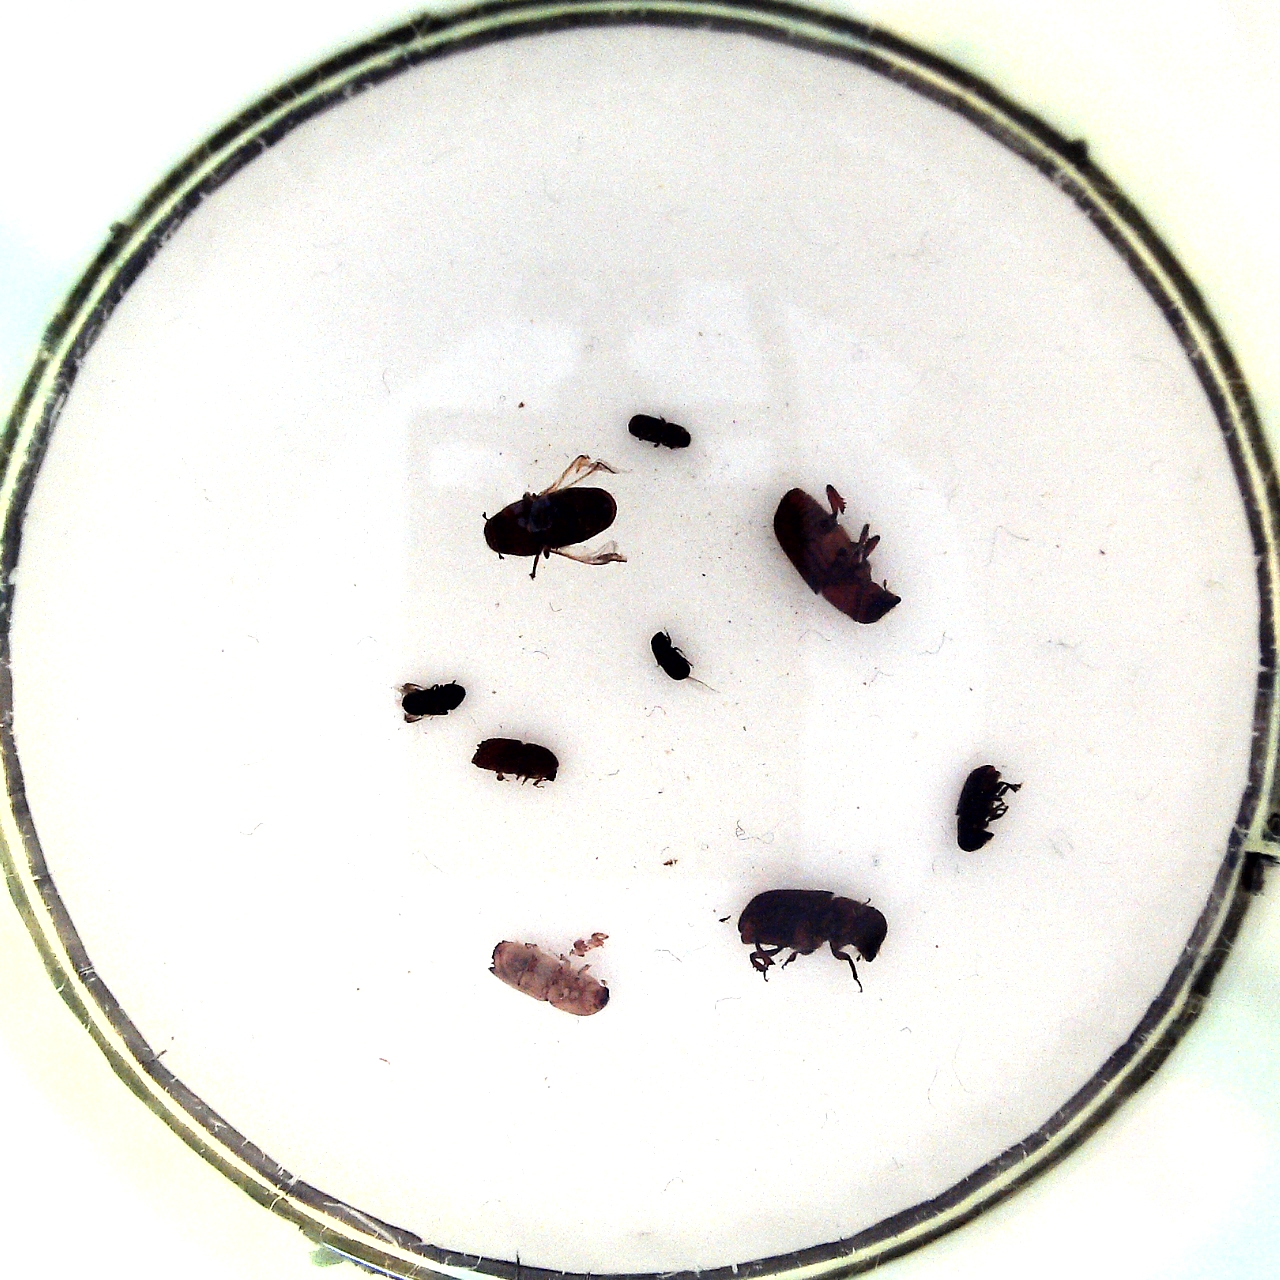Boerner: (479, 928, 620, 1024)
Leconte: (478, 455, 640, 586), (770, 479, 903, 633), (727, 881, 891, 983)
Linnaeus: (468, 728, 560, 794)
armandi: (949, 755, 1024, 855)
coleoptera: (645, 620, 720, 697), (393, 670, 468, 727), (624, 406, 701, 459)
